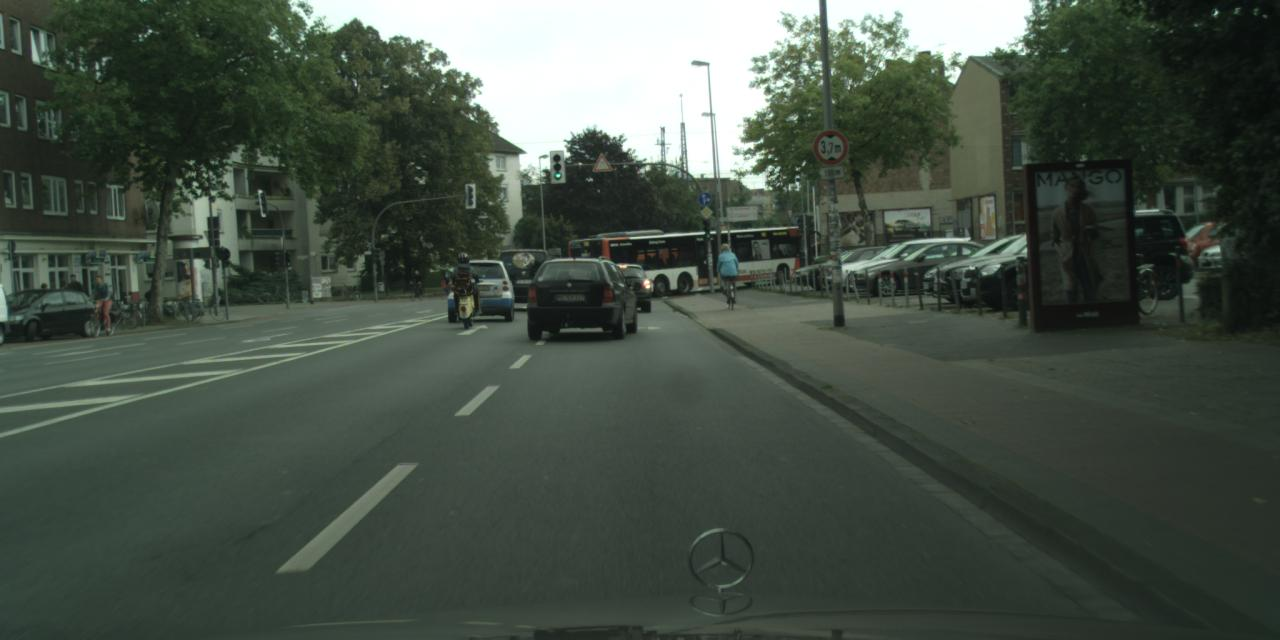ped: (452, 252, 477, 315), (716, 243, 739, 299), (90, 274, 112, 330), (65, 274, 85, 324), (36, 282, 54, 326), (442, 270, 452, 296), (412, 269, 422, 294)
